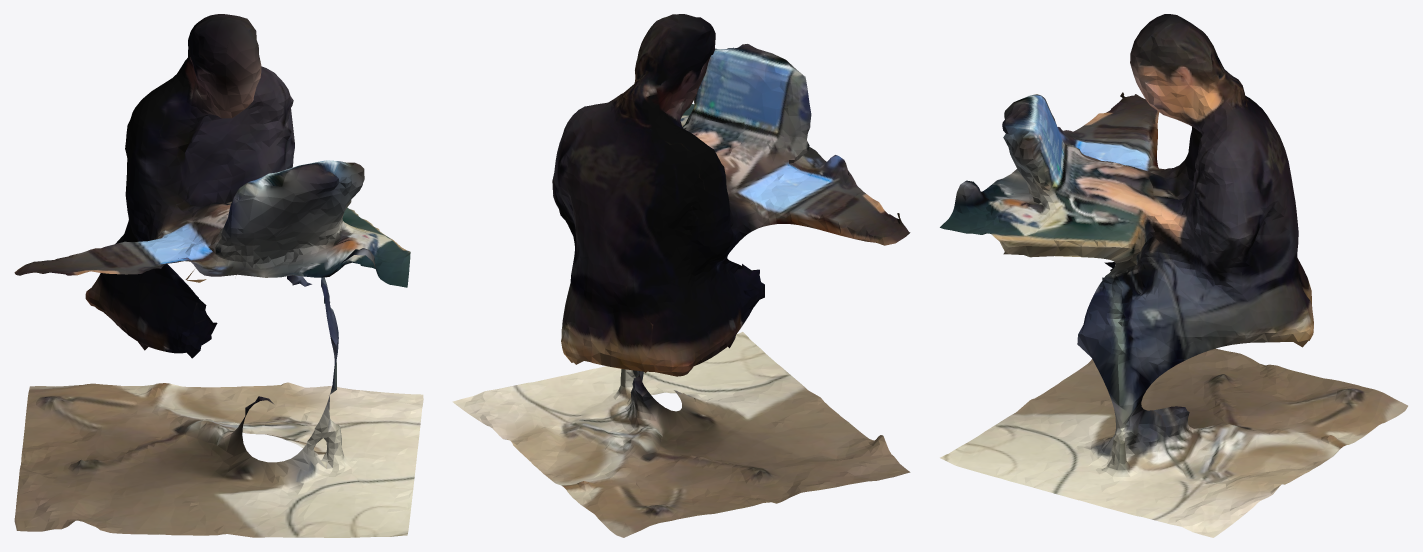
3 renders of one model, left to right at view 1: azimuth 30°, elevation 25°; view 2: azimuth 150°, elevation 25°; view 3: azimuth 270°, elevation 25°, orthographic. The views are drawn at different scales.
Bounding box in the file's own units: 1.3 × 1.24 × 1.27.
1 material, 1 textured.
